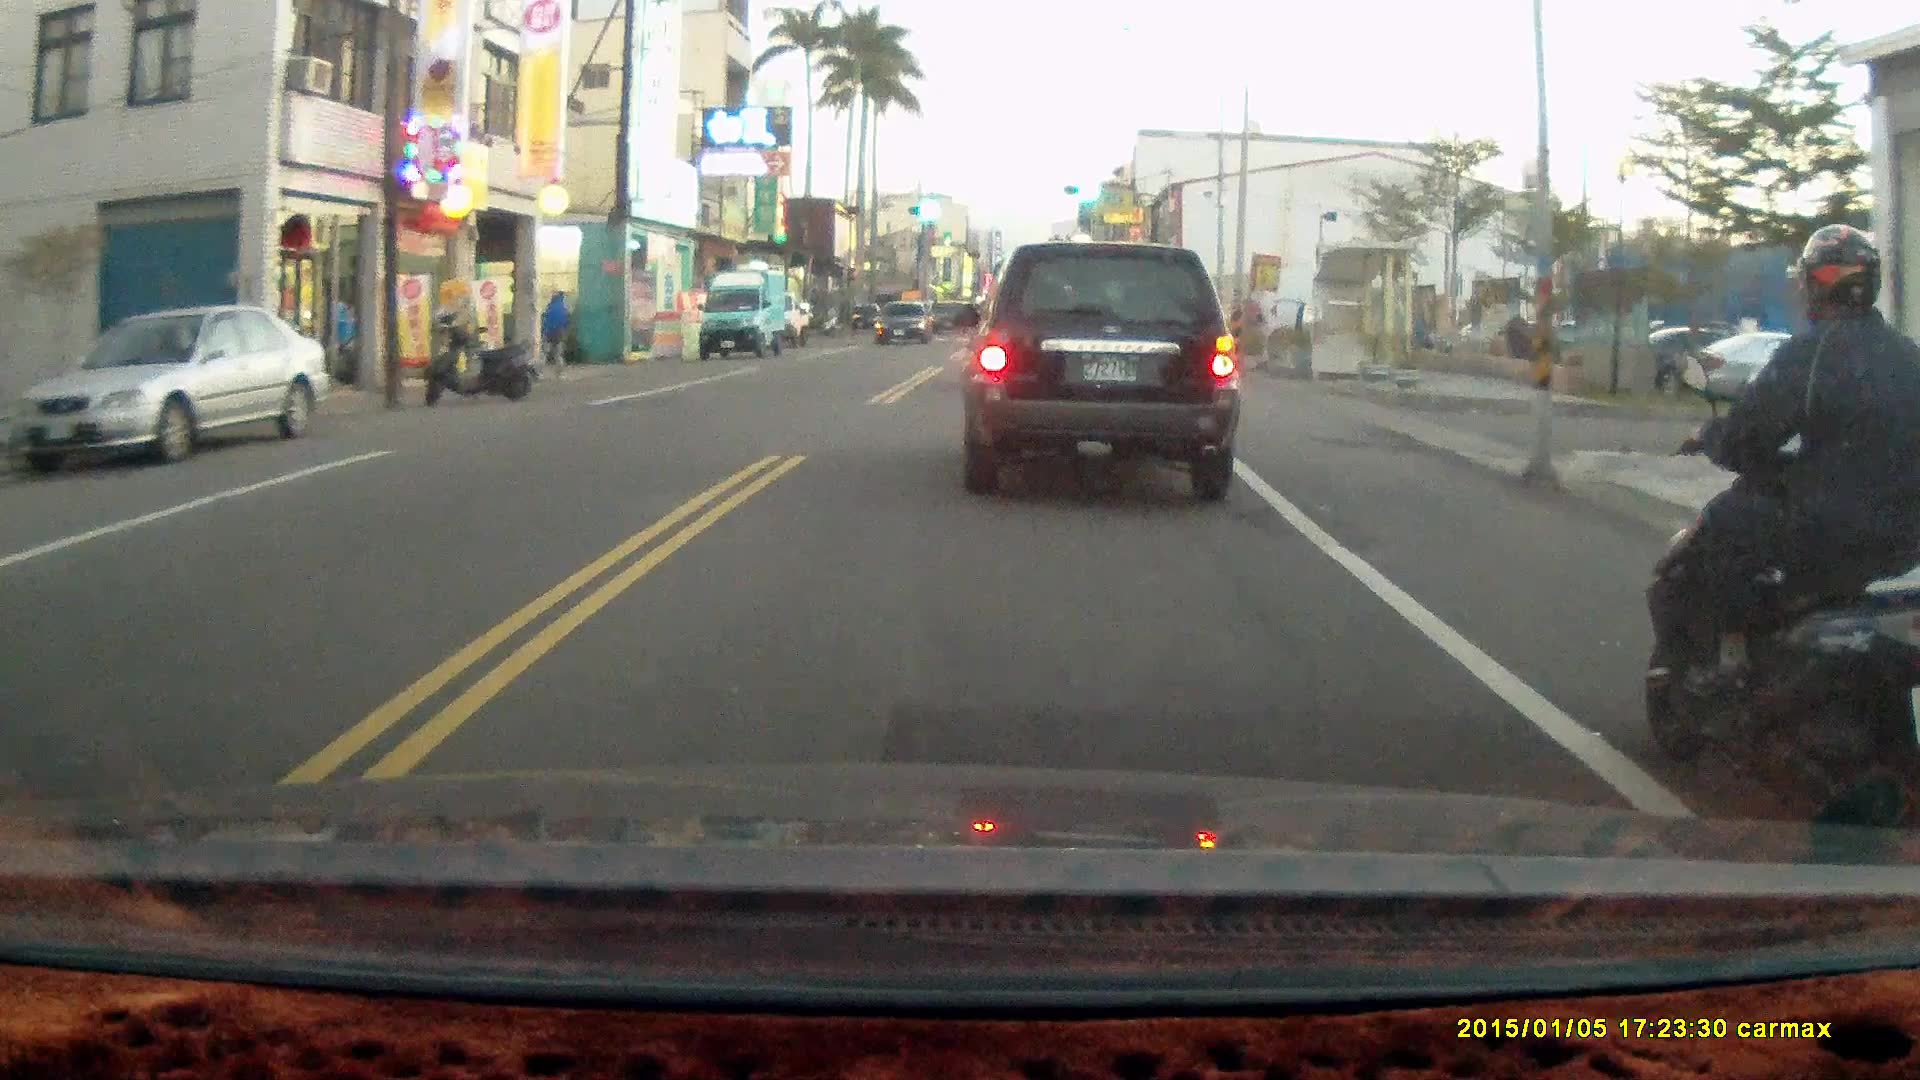pedestrian: (536, 284, 569, 380)
rider: (1639, 219, 1920, 867)
vehicle: (962, 240, 1242, 508), (18, 303, 328, 467), (697, 263, 793, 359), (873, 298, 934, 344)
